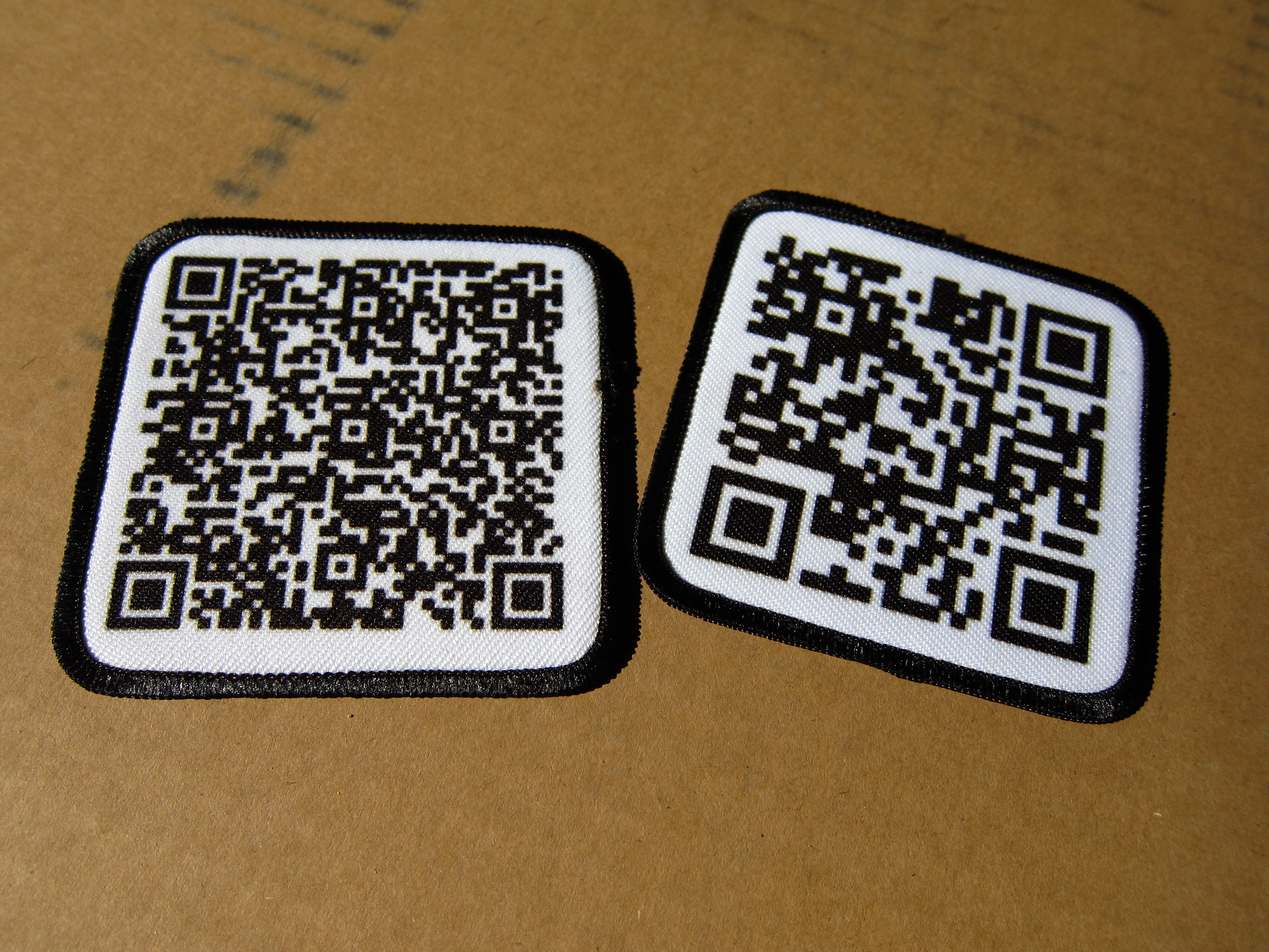QR-CODE: (689, 231, 1110, 665), (104, 256, 563, 630)
